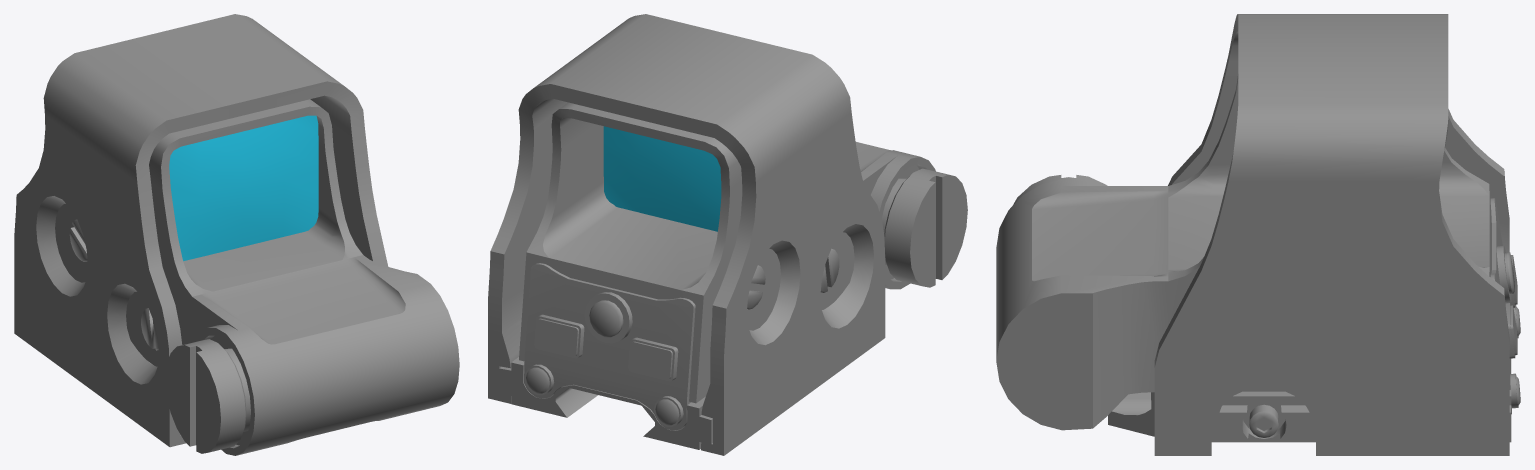
File: EOTech_Mesh.fbx
3 renders of one model, left to right at view 1: azimuth 30°, elevation 25°; view 2: azimuth 150°, elevation 25°; view 3: azimuth 270°, elevation 25°, orthographic. The views are drawn at different scales.
Visible parts, largest first — view 1: EOTech_Low; view 2: EOTech_Low; view 3: EOTech_Low.
Boxes of the visible parts, left/top/right/bottom form: EOTech_Low: left=14, top=14, right=459, bottom=455; EOTech_Low: left=488, top=14, right=967, bottom=455; EOTech_Low: left=996, top=14, right=1520, bottom=455.
Bounding box in the file's own units: 54.55 × 62.95 × 89.81.
